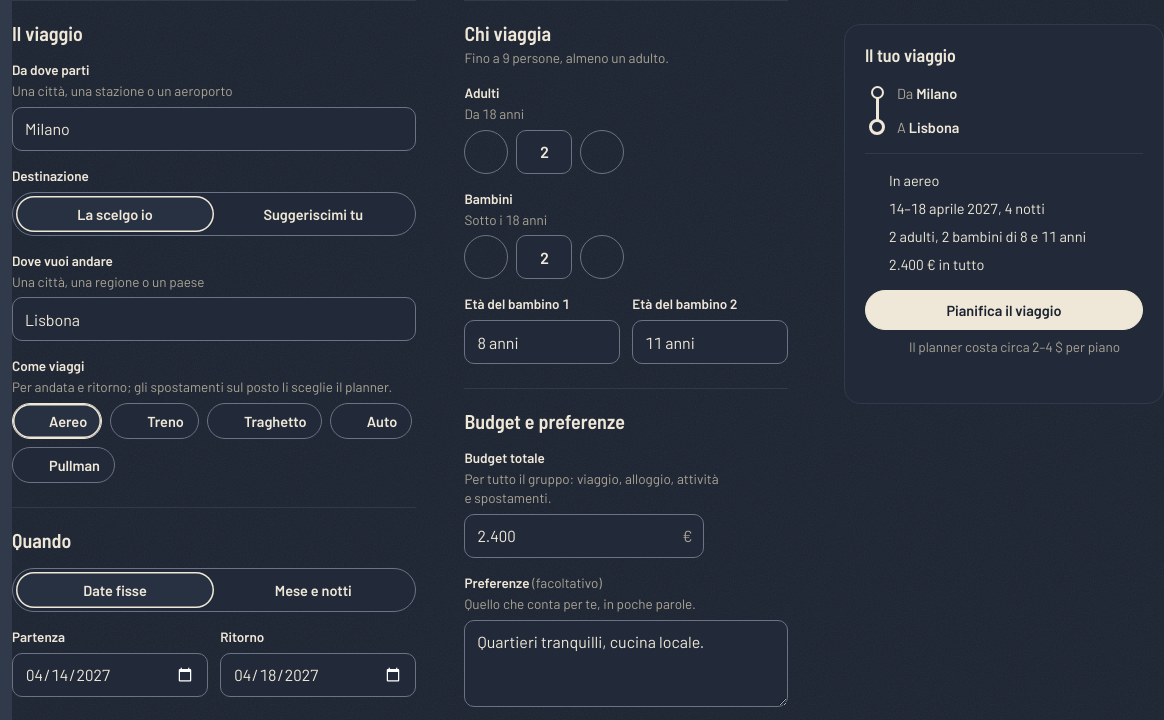
Test: RequestForm › puts the backend's 422 issues on the same fields
The width and height of the screenshot is (1164, 720).
Click the button "Pianifica il viaggio" at (1004, 310), box [865,290,1143,330]
(page scrolled)
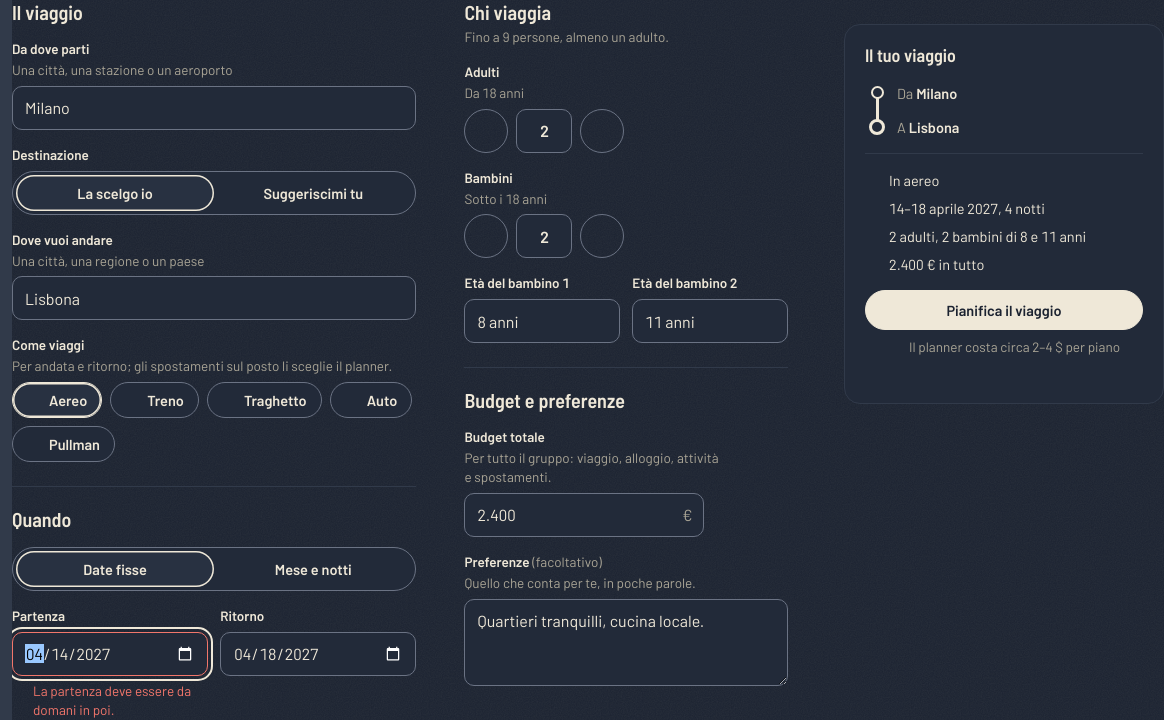
Now the element with id "field-dates-exact_start-error" reads "La partenza deve essere da domani in poi.", box [33,682,191,718]
